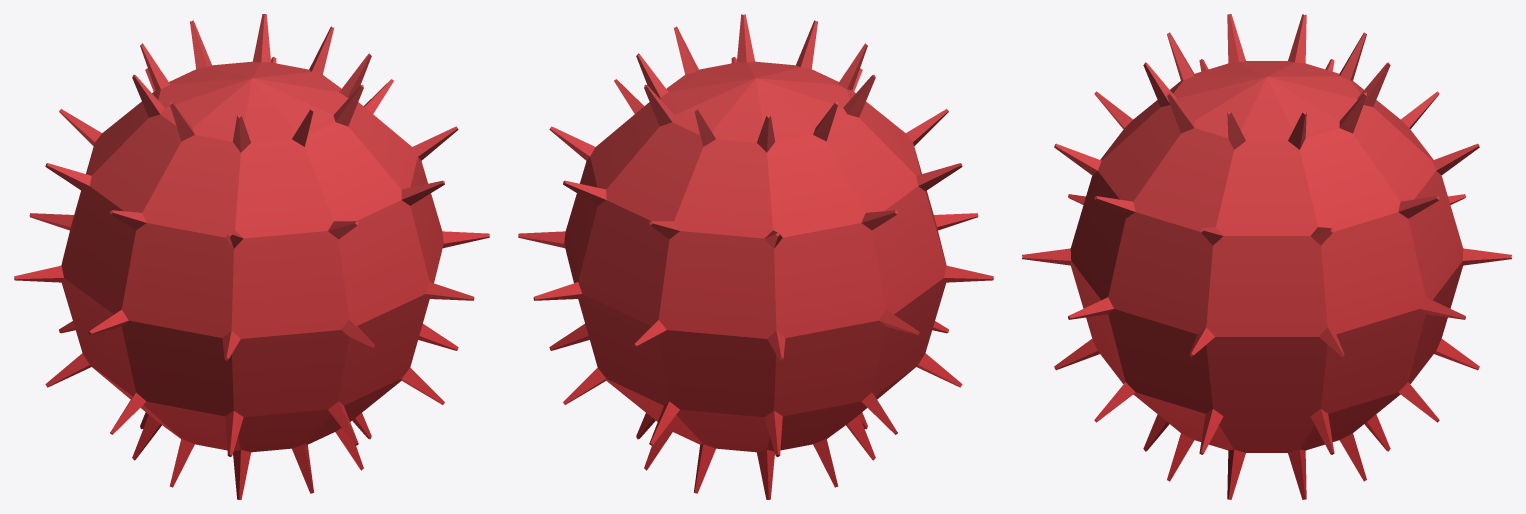
File: Rambutan.fbx
3 renders of one model, left to right at view 1: azimuth 30°, elevation 25°; view 2: azimuth 150°, elevation 25°; view 3: azimuth 270°, elevation 25°, orthographic.
Parts seen in each view (by area): view 1: Rambutan; view 2: Rambutan; view 3: Rambutan.
Boxes of the visible parts, box(x1,y1,x2,y2) form: Rambutan: box(14, 14, 489, 499); Rambutan: box(518, 14, 993, 499); Rambutan: box(1022, 14, 1511, 499).
Bounding box in the file's own units: 14.75 × 13.53 × 15.5.
